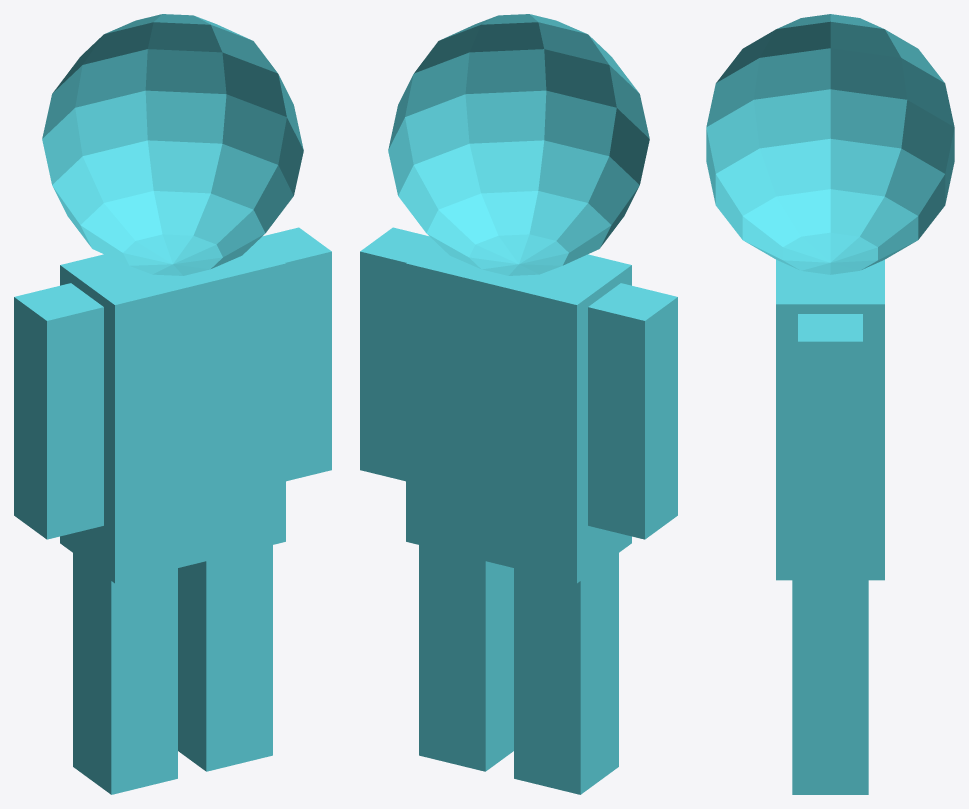
Rendered from player-cyan.glb.
3 renders of one model, left to right at view 1: azimuth 30°, elevation 25°; view 2: azimuth 150°, elevation 25°; view 3: azimuth 270°, elevation 25°, orthographic.
Visible parts, largest first — view 1: player-cyan; view 2: player-cyan; view 3: player-cyan.
Part boxes in pixels (bbox=[...]): player-cyan: bbox=[14, 14, 331, 794]; player-cyan: bbox=[360, 14, 677, 794]; player-cyan: bbox=[706, 14, 954, 794].
Size of the model in its own units: 0.3 by 0.74 by 0.2283.
